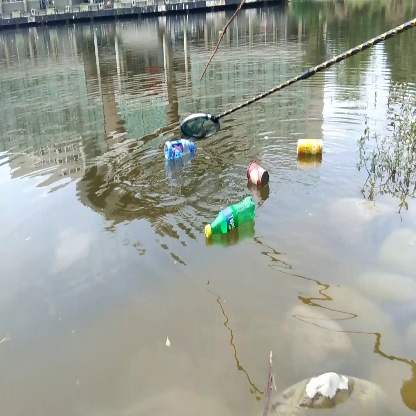bottle: (200, 195, 257, 240), (163, 139, 200, 164), (294, 133, 327, 158), (244, 162, 271, 189)
